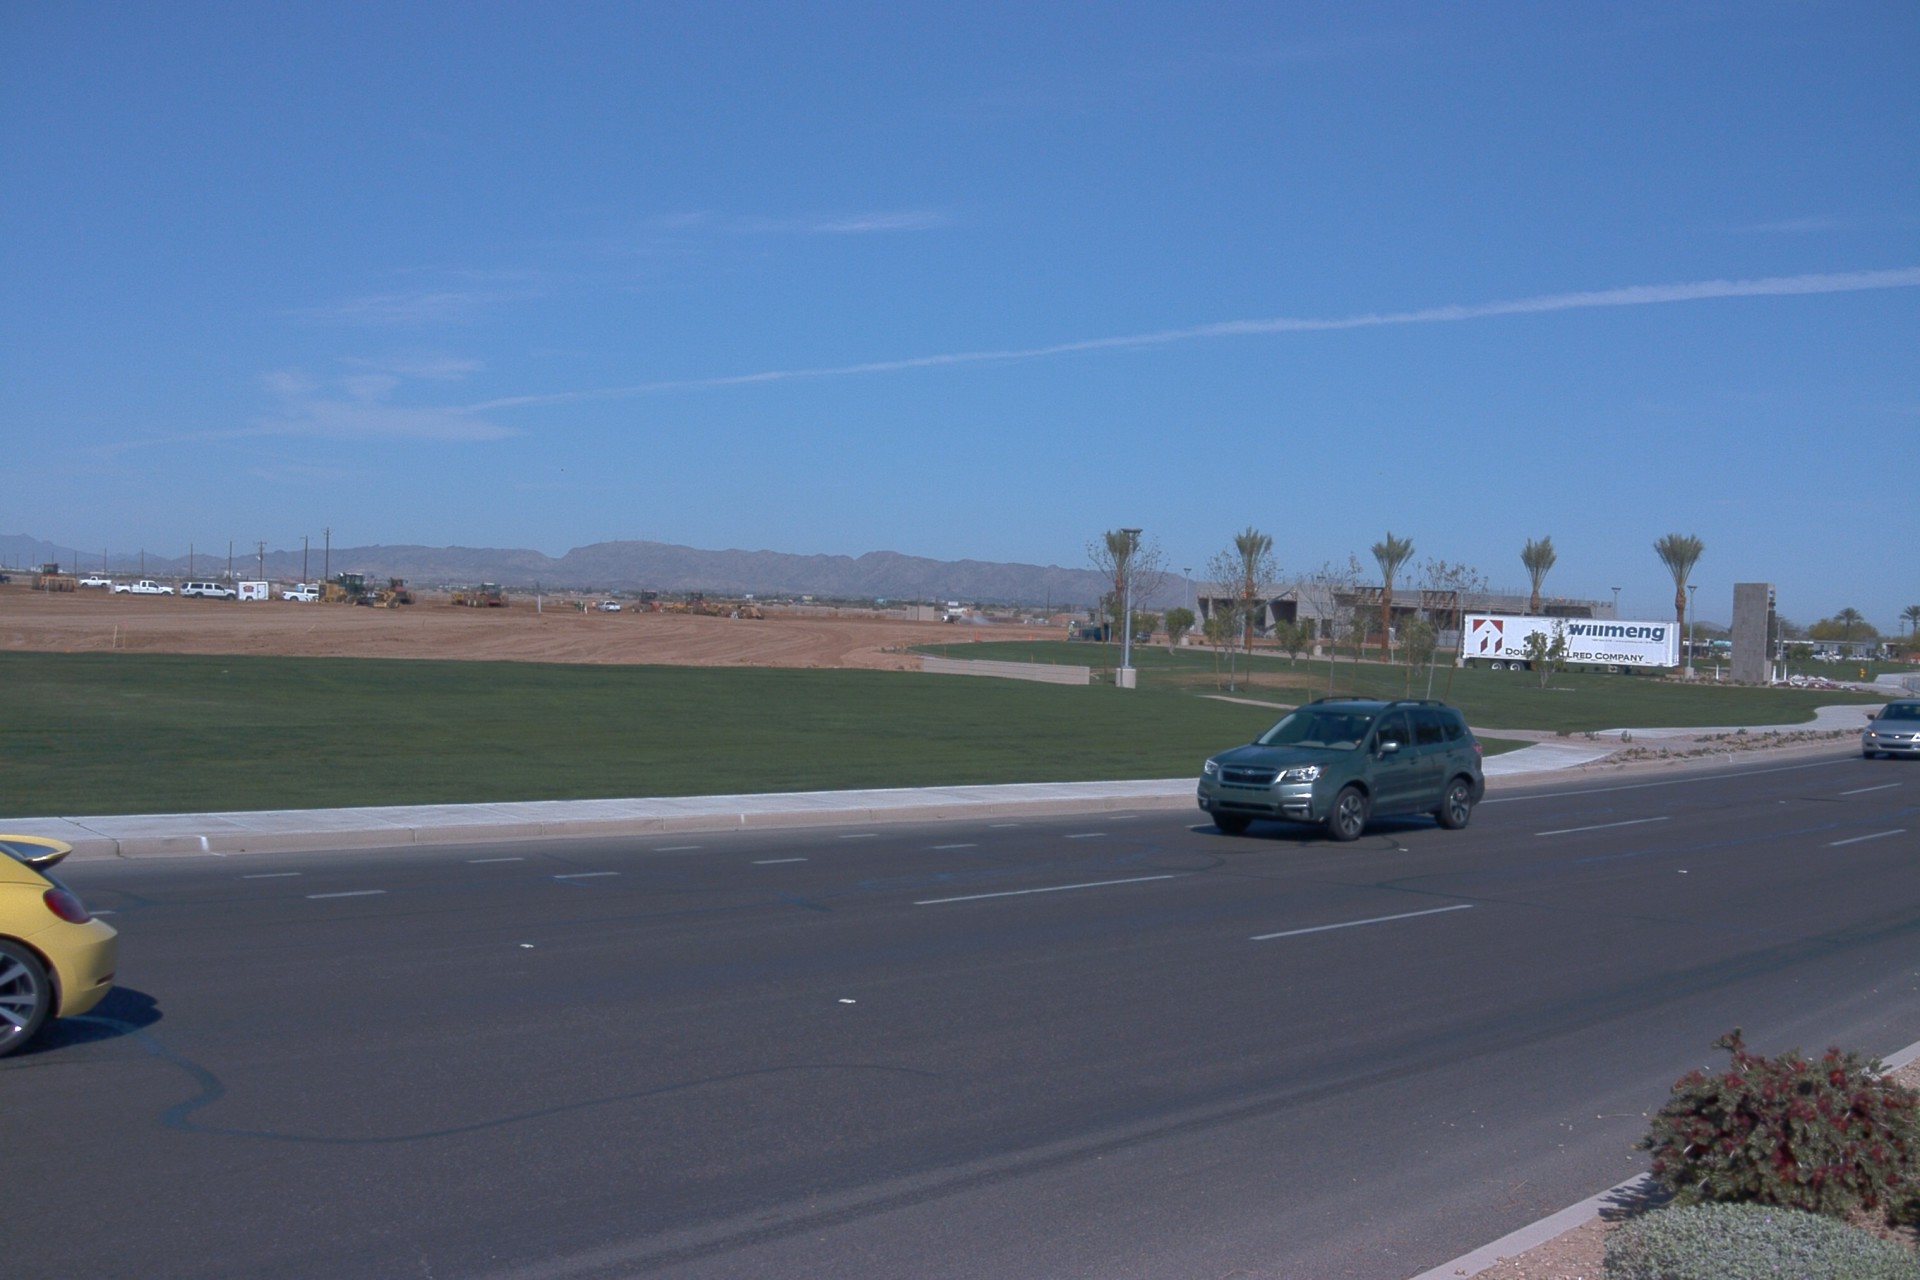TYPE_PEDESTRIAN: (1067, 619, 1075, 640), (577, 597, 585, 610), (591, 600, 597, 613)
TYPE_VEHICLE: (1197, 694, 1486, 843), (0, 834, 120, 1061), (1461, 609, 1686, 675), (306, 567, 401, 610), (1858, 698, 1920, 761), (1233, 583, 1298, 627), (1080, 619, 1154, 650), (448, 579, 509, 606), (115, 575, 179, 594), (180, 579, 240, 599), (938, 606, 981, 626), (231, 579, 274, 599), (278, 582, 322, 597), (75, 575, 111, 589), (388, 574, 411, 591), (601, 595, 623, 609), (0, 574, 10, 591), (326, 580, 336, 585)
